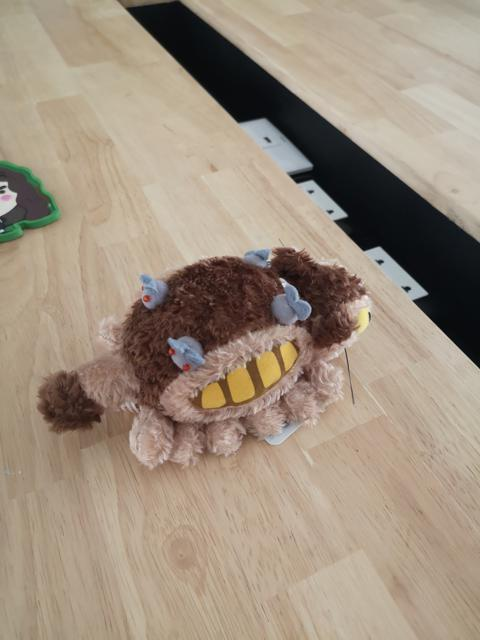nekobus: (35, 235, 376, 473)
